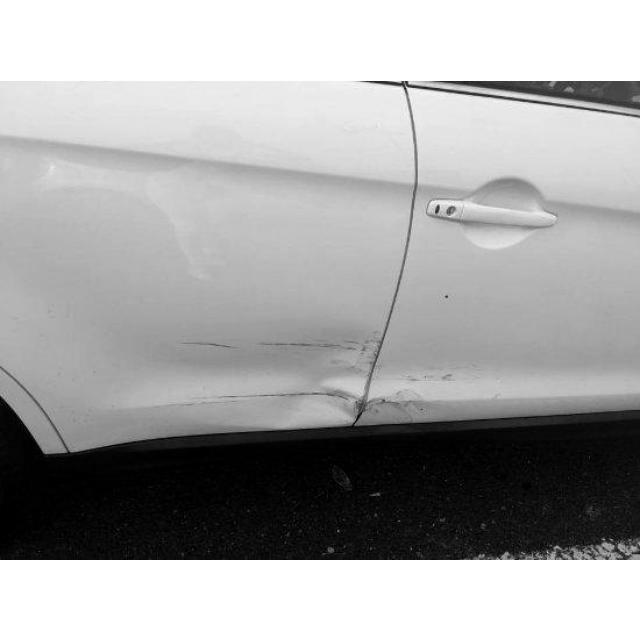doorouter-dent: (1, 80, 394, 458), (398, 80, 638, 458)
